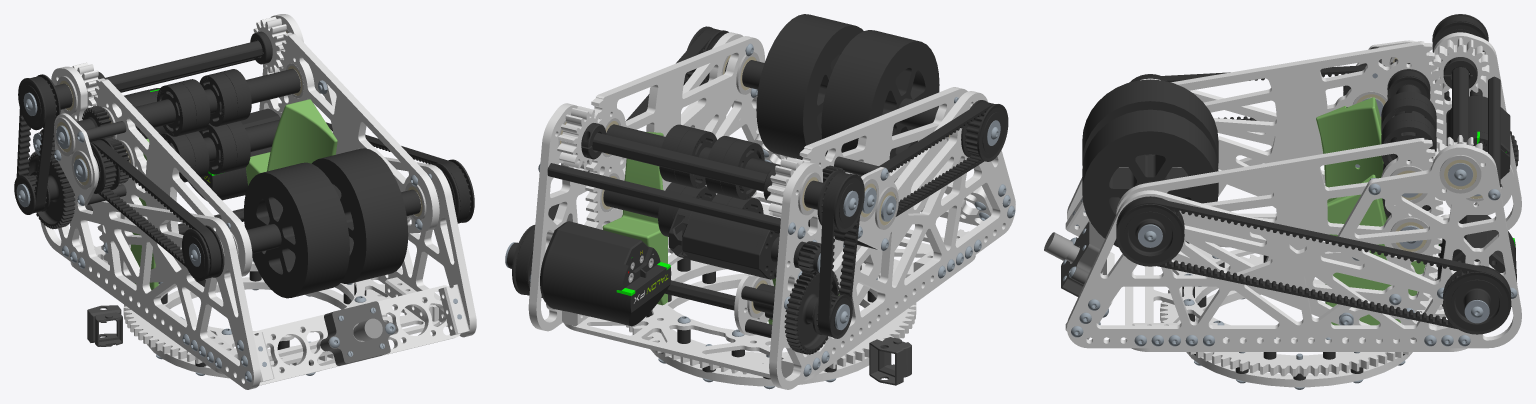
3 renders of one model, left to right at view 1: azimuth 30°, elevation 25°; view 2: azimuth 150°, elevation 25°; view 3: azimuth 270°, elevation 25°, orthographic. The views are drawn at different scales.
Parts seen in each view (by area): view 1: 4" Solid Urethane Wheel (45A, 1.5" Wide, 1/2" Hex Bore) (×2), Shooter Plate 2, Hood Plate 2, 1.625" Flex Wheel (30A, 1/2" Wide, 1/2" Hex Bore) (×8), Hood Plate, Shooter Plate, Camera Mounting Plate, 3DP guide side 1, 90T 5M 9mm Wide Belt, 24t Aluminum Pulley (HTD 5mm, 9mm Wide, 1/2" Hex Bore) (×3), Shooter Base, 1/2" Rounded Hex (9.344" L, 13.75mm OD) (+22 smaller); view 2: Shooter Plate 2, 4" Solid Urethane Wheel (45A, 1.5" Wide, 1/2" Hex Bore) (×2), Kraken X60 Brushless Motor, Hood Plate, Shooter Base, Shooter Plate, Hood Plate 2, Kraken X44 Brushless Motor, 1.625" Flex Wheel (30A, 1/2" Wide, 1/2" Hex Bore) (×5), 3/8" Rounded Hex (7.5" L, 10.25mm OD), Turret Gear, 1/2" Rounded Hex (9.344" L, 13.75mm OD) (+22 smaller); view 3: Shooter Plate, Hood Plate, 4" Solid Urethane Wheel (45A, 1.5" Wide, 1/2" Hex Bore) (×2), Hood Plate 2, 30t Aluminum Pulley (HTD 5mm, 9mm Wide, 1/2" Hex Bore) (×2), 130T 5M 9mm Wide Belt, Shooter Plate 2, Turret Gear, 3DP guide side 2, Shooter Base, 1.625" Flex Wheel (30A, 1/2" Wide, 1/2" Hex Bore) (×4), Turret Support Ring (+16 smaller).
Part boxes in pixels (left/top/right/bottom): 4" Solid Urethane Wheel (45A, 1.5" Wide, 1/2" Hex Bore) (×2): left=244, top=148, right=408, bottom=298; Shooter Plate 2: left=40, top=66, right=260, bottom=389; Hood Plate 2: left=93, top=78, right=252, bottom=283; 1.625" Flex Wheel (30A, 1/2" Wide, 1/2" Hex Bore) (×8): left=157, top=69, right=251, bottom=182; Hood Plate: left=278, top=32, right=439, bottom=233; Shooter Plate: left=259, top=14, right=476, bottom=337; Camera Mounting Plate: left=253, top=285, right=460, bottom=385; 3DP guide side 1: left=246, top=99, right=337, bottom=185; 90T 5M 9mm Wide Belt: left=90, top=139, right=221, bottom=278; 24t Aluminum Pulley (HTD 5mm, 9mm Wide, 1/2" Hex Bore) (×3): left=18, top=74, right=224, bottom=281; Shooter Base: left=70, top=245, right=440, bottom=374; 1/2" Rounded Hex (9.344" L, 13.75mm OD): left=105, top=40, right=263, bottom=90; Shooter Plate 2: left=769, top=91, right=1015, bottom=389; 4" Solid Urethane Wheel (45A, 1.5" Wide, 1/2" Hex Bore) (×2): left=756, top=14, right=939, bottom=179; Kraken X60 Brushless Motor: left=540, top=221, right=671, bottom=326; Hood Plate: left=585, top=36, right=764, bottom=229; Shooter Base: left=564, top=192, right=975, bottom=380; Shooter Plate: left=528, top=32, right=757, bottom=331; Hood Plate 2: left=799, top=87, right=967, bottom=304; Kraken X44 Brushless Motor: left=669, top=197, right=780, bottom=279; 1.625" Flex Wheel (30A, 1/2" Wide, 1/2" Hex Bore) (×5): left=658, top=124, right=764, bottom=236; 3/8" Rounded Hex (7.5" L, 10.25mm OD): left=547, top=163, right=780, bottom=232; Turret Gear: left=626, top=260, right=916, bottom=374; 1/2" Rounded Hex (9.344" L, 13.75mm OD): left=592, top=132, right=767, bottom=191; Shooter Plate: left=1067, top=144, right=1521, bottom=348; Hood Plate: left=1116, top=138, right=1443, bottom=339; 4" Solid Urethane Wheel (45A, 1.5" Wide, 1/2" Hex Bore) (×2): left=1082, top=79, right=1218, bottom=247; Hood Plate 2: left=1171, top=41, right=1443, bottom=196; 30t Aluminum Pulley (HTD 5mm, 9mm Wide, 1/2" Hex Bore) (×2): left=1116, top=196, right=1511, bottom=334; 130T 5M 9mm Wide Belt: left=1117, top=198, right=1510, bottom=329; Shooter Plate 2: left=1067, top=32, right=1521, bottom=235; Turret Gear: left=1160, top=254, right=1432, bottom=376; 3DP guide side 2: left=1316, top=97, right=1387, bottom=219; Shooter Base: left=1125, top=243, right=1467, bottom=351; 1.625" Flex Wheel (30A, 1/2" Wide, 1/2" Hex Bore) (×4): left=1381, top=91, right=1436, bottom=165; Turret Support Ring: left=1186, top=279, right=1412, bottom=387.
Bounding box in the file's own units: 0.2766 × 0.2058 × 0.3562.
